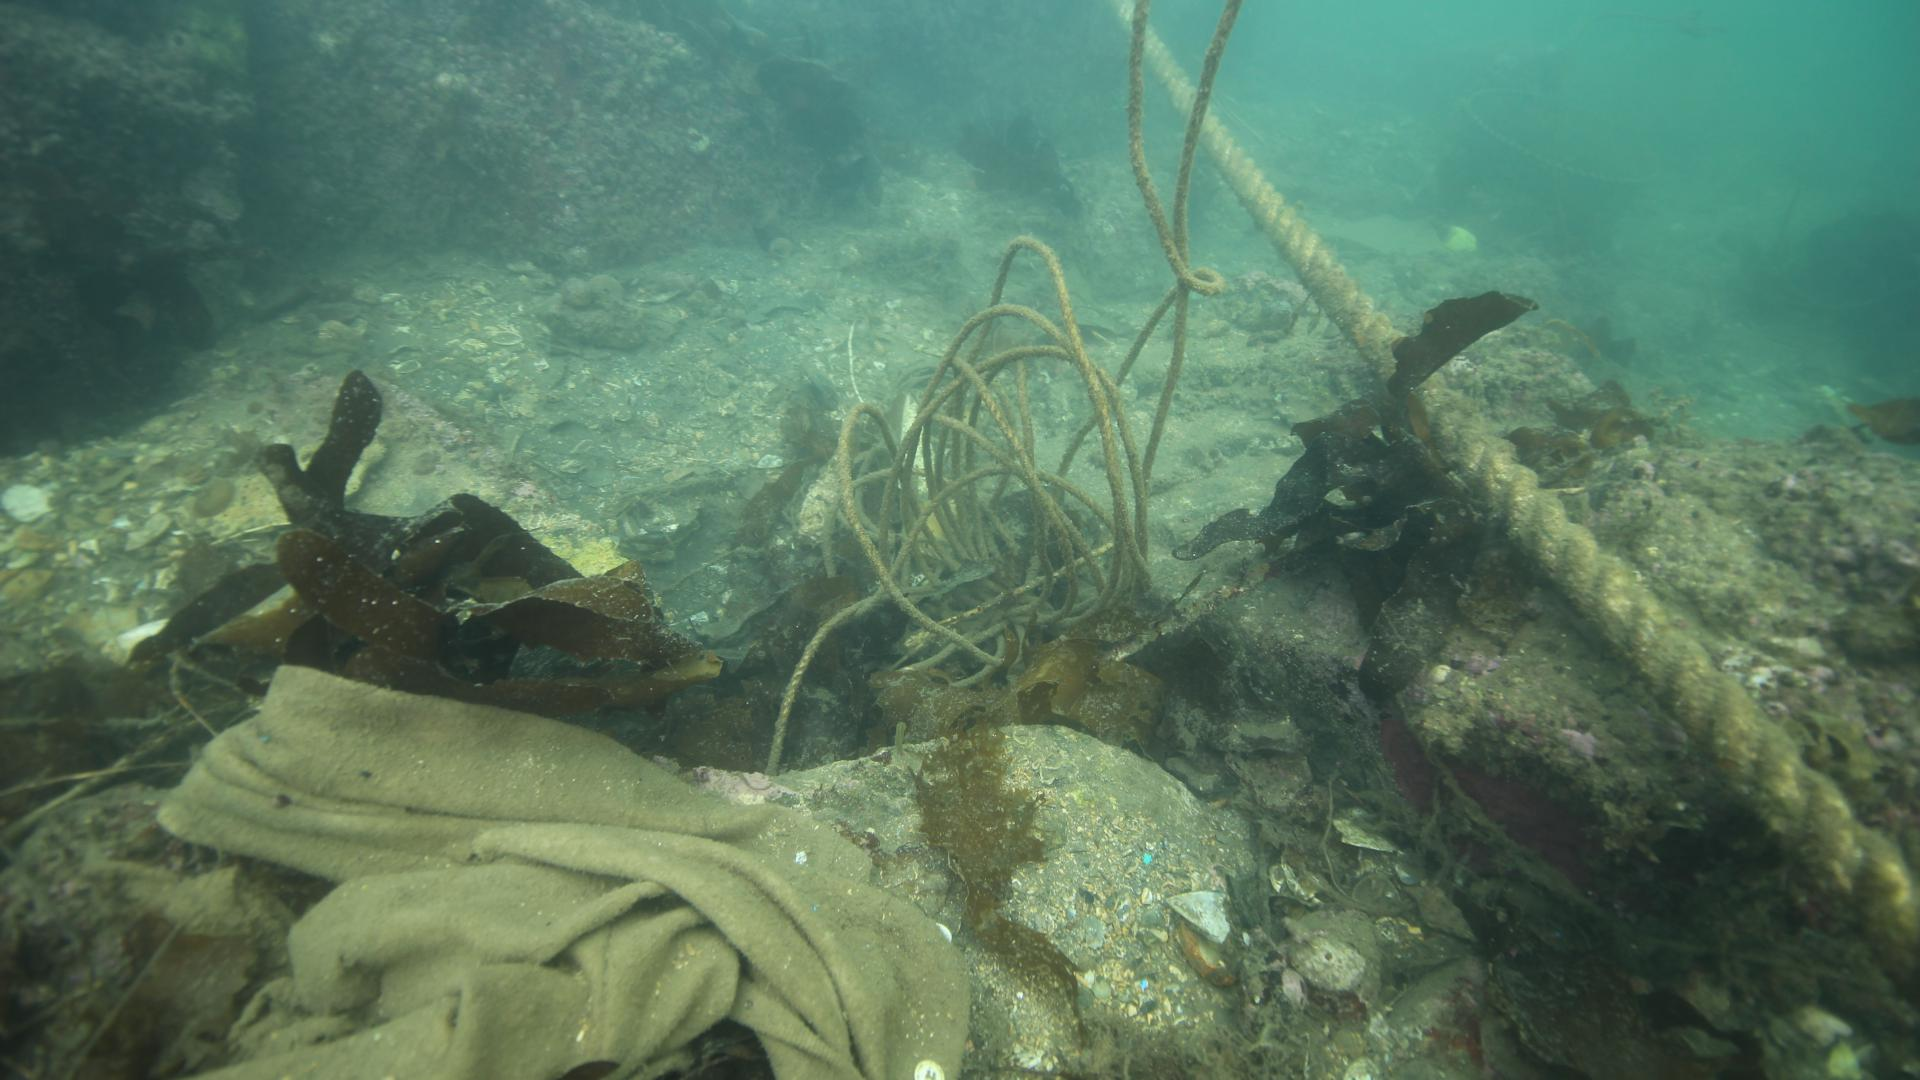bundle of ropes: (758, 0, 1247, 781)
rope: (1122, 0, 1920, 971)
